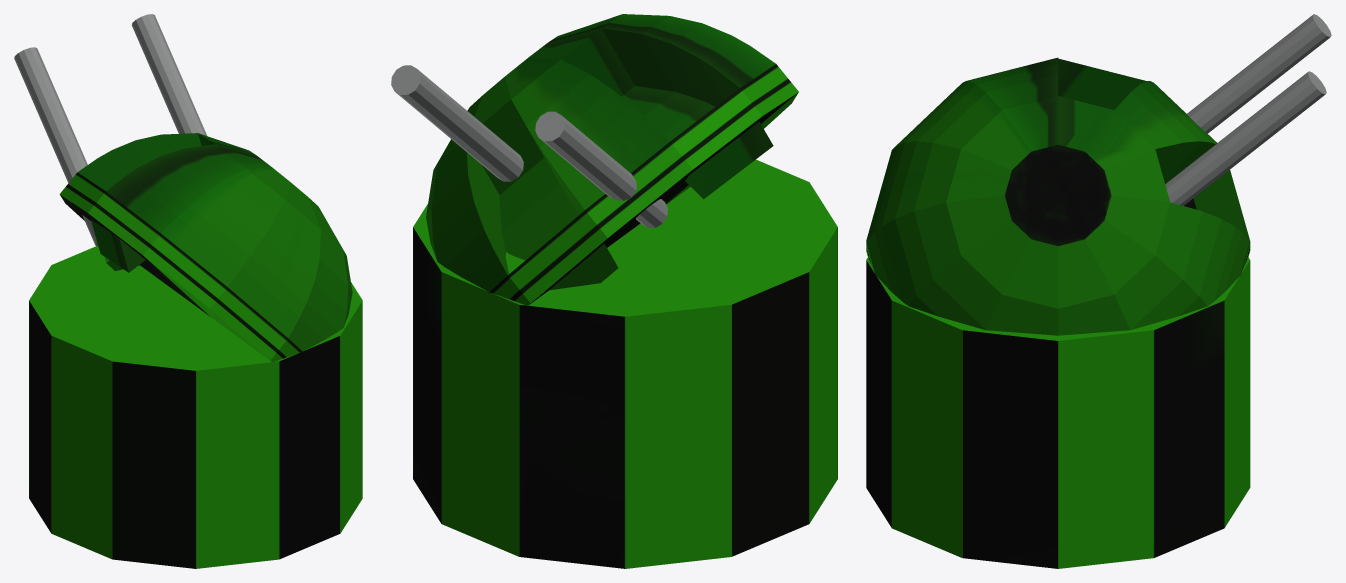
The model's file is chaingun.glb.
3 renders of one model, left to right at view 1: azimuth 30°, elevation 25°; view 2: azimuth 150°, elevation 25°; view 3: azimuth 270°, elevation 25°, orthographic. The views are drawn at different scales.
Visible parts, largest first — view 1: Base, Head, LeftGun, RightGun; view 2: Base, Head, RightGun, LeftGun; view 3: Base, Head, RightGun, LeftGun.
Boxes of the visible parts, x1,y1,x2,y2 form: Base: (29, 246, 362, 568); Head: (59, 133, 352, 362); LeftGun: (14, 47, 98, 246); RightGun: (131, 14, 206, 135); Base: (413, 159, 837, 568); Head: (426, 14, 798, 306); RightGun: (391, 65, 523, 181); LeftGun: (535, 111, 667, 227); Base: (866, 257, 1250, 568); Head: (866, 57, 1250, 335); RightGun: (1165, 71, 1326, 205); LeftGun: (1187, 14, 1331, 133).
Bounding box in the file's own units: 2 × 2.58 × 2.42.
Materials: 4 (4 with a texture image).
